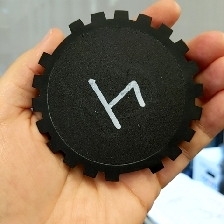gear: (30, 8, 204, 183)
missing: (38, 18, 84, 70), (104, 157, 163, 184)
